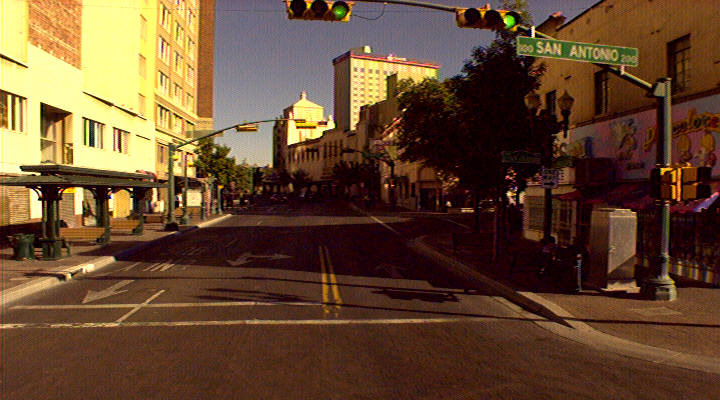Ramp: (536, 291, 720, 373)
